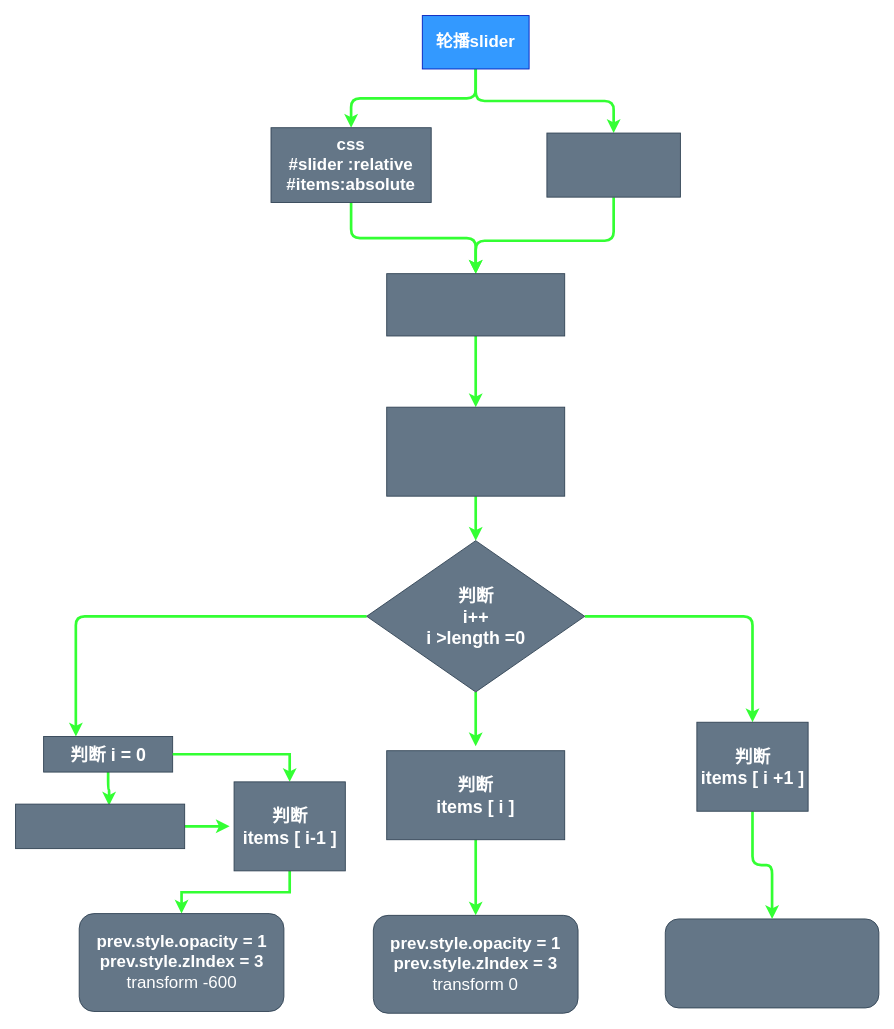
This 894x1029 diagram has some shape labels left out. Here are the shapes that lost their labels. From the top down, the box of each, then its label:
(546, 132, 680, 197): Html a>img
(386, 273, 565, 336): Js querySelectorAll
(386, 406, 565, 496): Let i = 0; items[ i ] it = items.length - 1
(15, 803, 185, 849): items [ items.length -1 ]
(664, 918, 879, 1008): next.style.opacity = 3 next.style.zIndex = 3 transform 600
